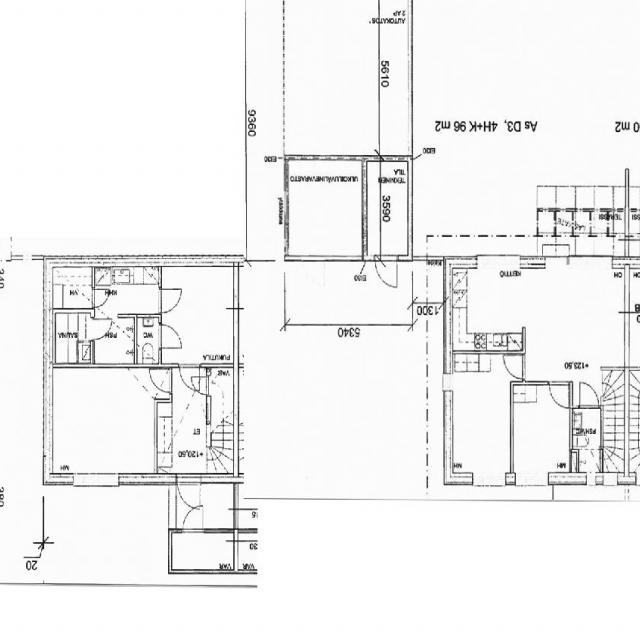door: (178, 473, 200, 512), (302, 256, 323, 286), (376, 256, 396, 286), (158, 325, 182, 349), (182, 506, 202, 534), (180, 364, 200, 390), (158, 290, 181, 312), (150, 369, 172, 392), (504, 356, 526, 378), (580, 383, 598, 409), (90, 319, 112, 339), (550, 382, 568, 406), (191, 376, 211, 394), (92, 290, 109, 307)
